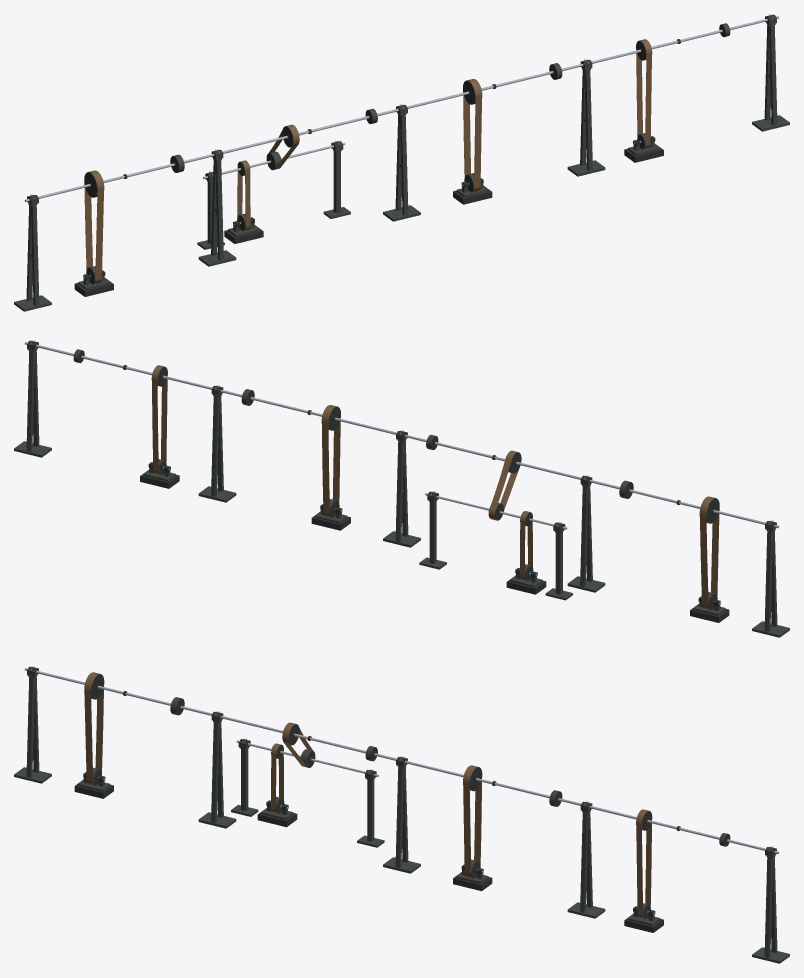
Rendered from machinery-line-shafting.glb.
3 renders of one model, top to bottom at view 1: azimuth 30°, elevation 25°; view 2: azimuth 150°, elevation 25°; view 3: azimuth 330°, elevation 25°, orthographic.
Visible parts, largest first — view 1: MainShaft, Belt1_drop, Belt4_drop, Belt5_drop, Belt3_counter_drop, Standard2_leg-1, Standard4_leg-1, Standard3_leg-1, Standard5_leg-1, Standard1_leg-1; view 2: MainShaft, Belt1_drop, Belt4_drop, Belt5_drop, Belt2_counter_drive, Standard2_leg1, Standard4_leg1, Standard3_leg1, Standard5_leg1, Standard1_leg1, Belt3_counter_drop; view 3: MainShaft, Belt1_drop, Belt4_drop, Belt5_drop, Standard4_leg-1, Standard2_leg-1, Standard1_leg-1, Standard3_leg-1, Standard5_leg-1, Belt3_counter_drop.
Part boxes in pixels (x1,y1,x2,y2): MainShaft: (24, 16, 779, 202); Belt1_drop: (84, 170, 103, 284); Belt4_drop: (463, 79, 481, 192); Belt5_drop: (636, 39, 651, 148); Belt3_counter_drop: (237, 160, 250, 230); Standard2_leg-1: (215, 159, 223, 260); Standard4_leg-1: (584, 69, 592, 170); Standard3_leg-1: (400, 114, 408, 215); Standard5_leg-1: (769, 24, 777, 125); Standard1_leg-1: (31, 204, 39, 305); MainShaft: (24, 342, 779, 528); Belt1_drop: (700, 496, 719, 610); Belt4_drop: (322, 405, 340, 518); Belt5_drop: (152, 365, 167, 474); Belt2_counter_drive: (488, 450, 518, 520); Standard2_leg1: (580, 485, 588, 586); Standard4_leg1: (211, 395, 219, 496); Standard3_leg1: (395, 440, 403, 541); Standard5_leg1: (26, 350, 34, 451); Standard1_leg1: (764, 530, 772, 631); Belt3_counter_drop: (520, 511, 532, 581); MainShaft: (24, 668, 779, 854); Belt1_drop: (84, 672, 103, 786); Belt4_drop: (463, 765, 481, 878); Belt5_drop: (636, 809, 651, 919); Standard4_leg-1: (580, 811, 588, 912); Standard2_leg-1: (211, 721, 219, 822); Standard1_leg-1: (26, 676, 34, 777); Standard3_leg-1: (395, 766, 403, 867); Standard5_leg-1: (764, 856, 772, 957); Belt3_counter_drop: (271, 743, 283, 813).
Bounding box in the file's own units: 30.36 × 4.45 × 1.96.
